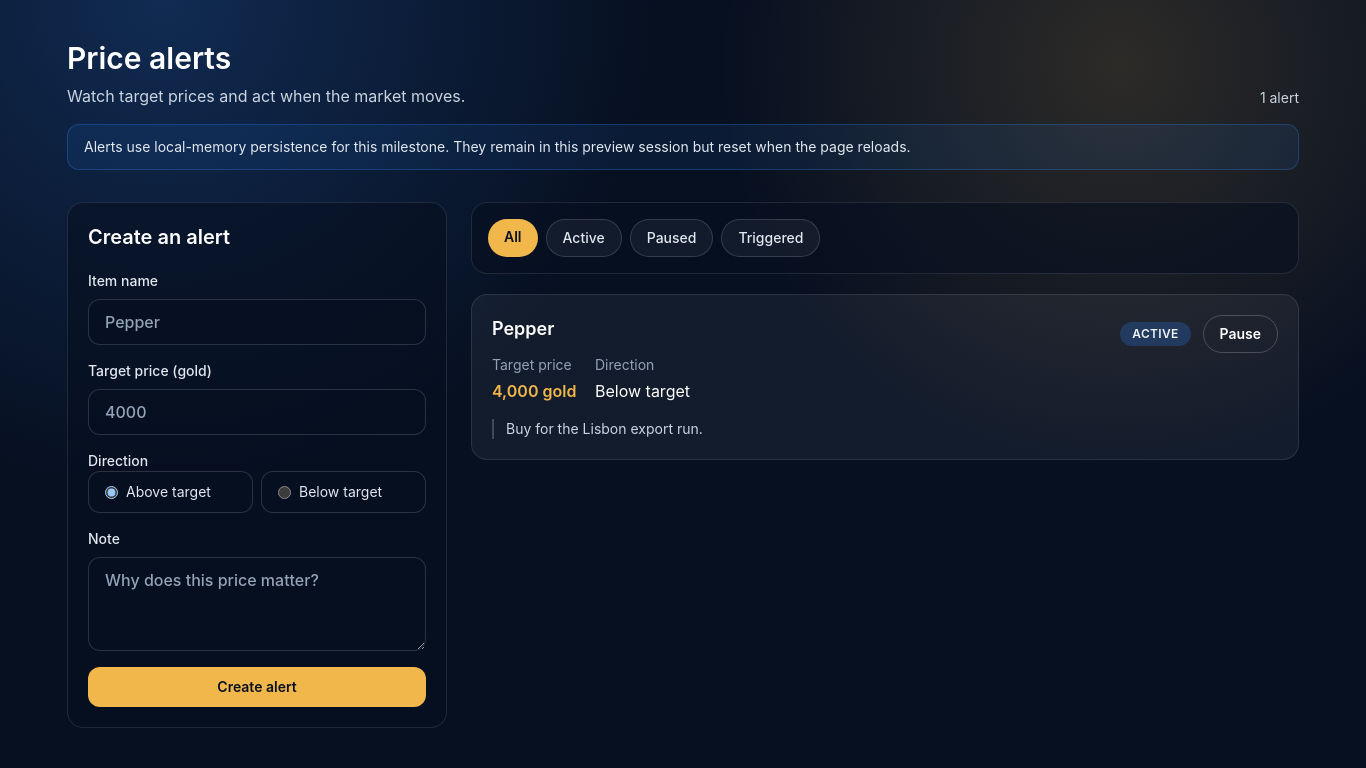
Scenario: PriceAlertsPage › updates alert status and refreshes the filtered list
Expected: the heading "Pepper" is shown, [492,318,554,339]
Click the button "Pause" at coordinates (1240, 334), box [1202,315,1278,353]
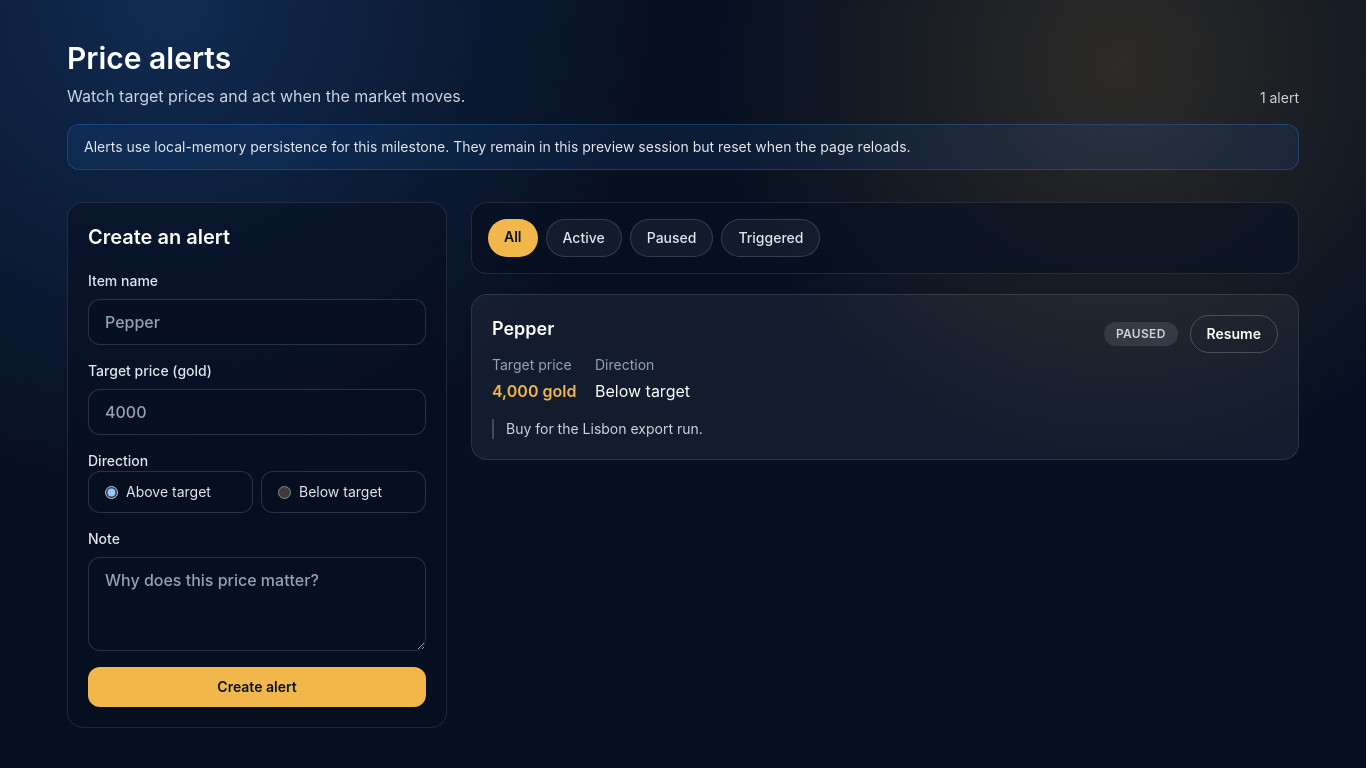
Expected: the button "Resume" is shown, [1190,315,1278,353]
